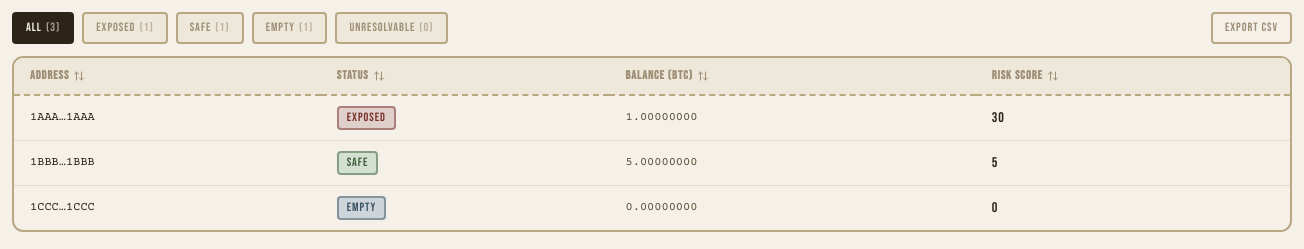
it: AddressTable › filters to EXPOSED only when that filter is clicked
The image size is (1304, 249).
Click the button "Exposed(1)".
click(125, 28)  # box [82,12,168,44]
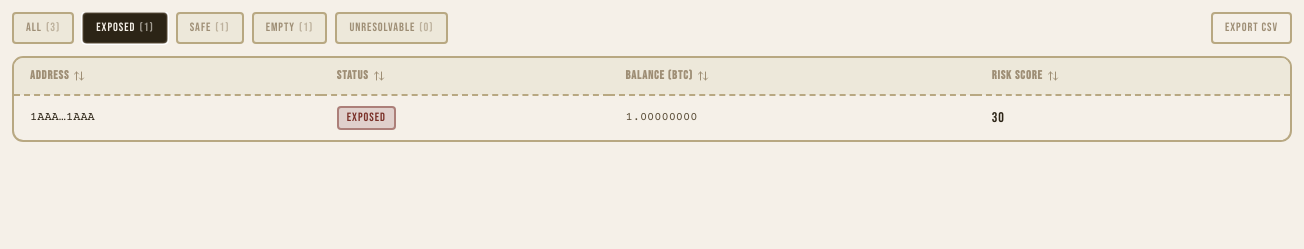
Check: the text "1AAA…1AAA" is shown, box [14,95,321,140]
Check: the text "1BBB" is gone
